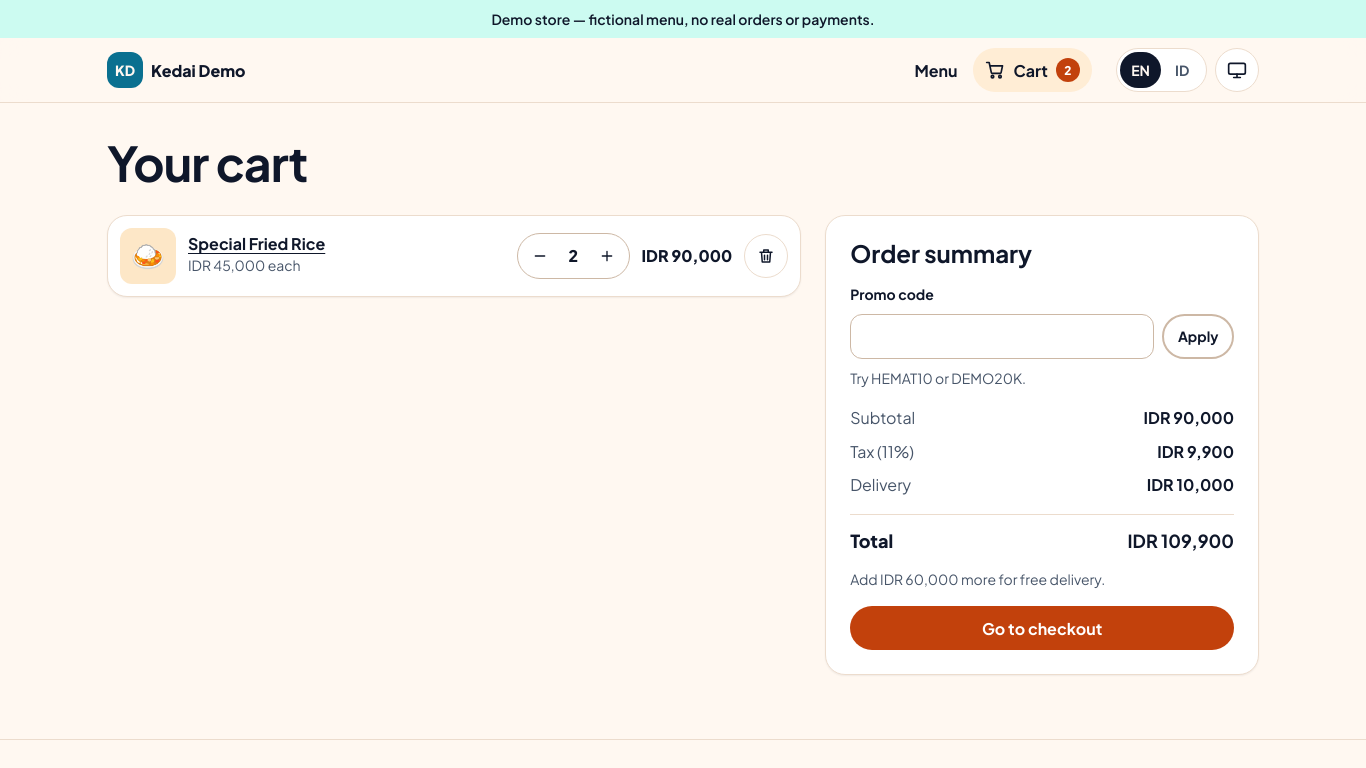
cart › applies a valid promo code and rejects an unknown one
Type "nope" into the field labelled "Promo code" at (1002, 336), box top-left (850, 314), bottom-right (1154, 359)
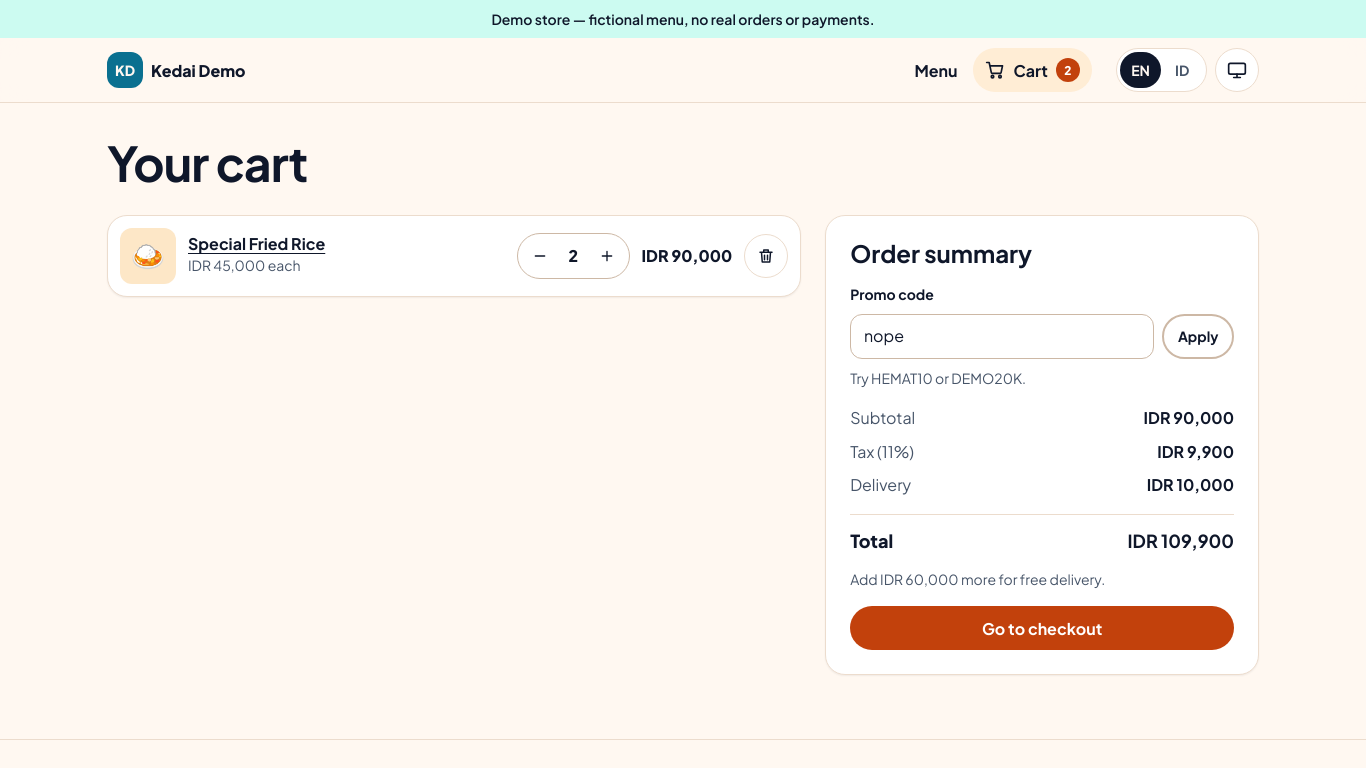
Click the button "Apply" at (1198, 336), box top-left (1162, 314), bottom-right (1234, 359)
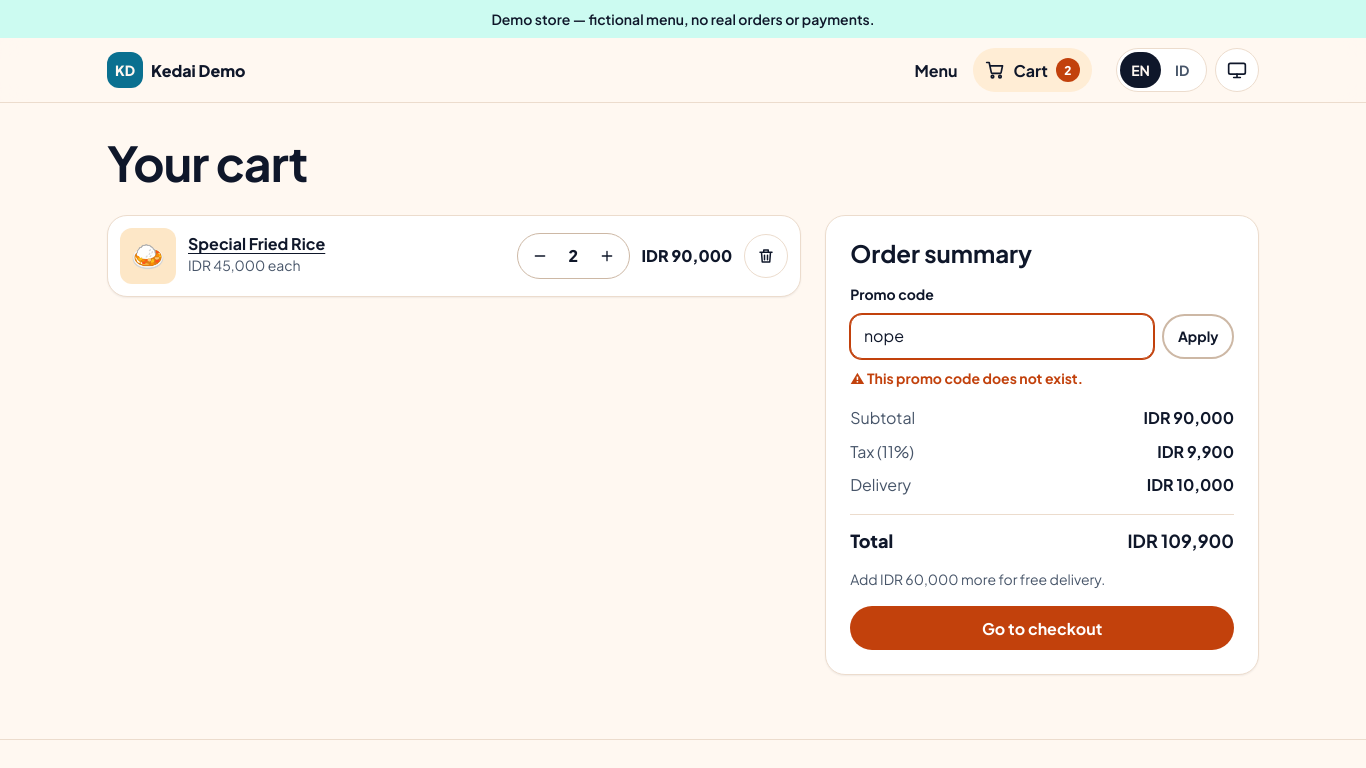
Expected: the text "This promo code does not exist." is shown, top-left (867, 369), bottom-right (1083, 387)
Replace the text in the field labelled "Promo code" with "hemat10" at (1002, 336), box top-left (850, 314), bottom-right (1154, 359)
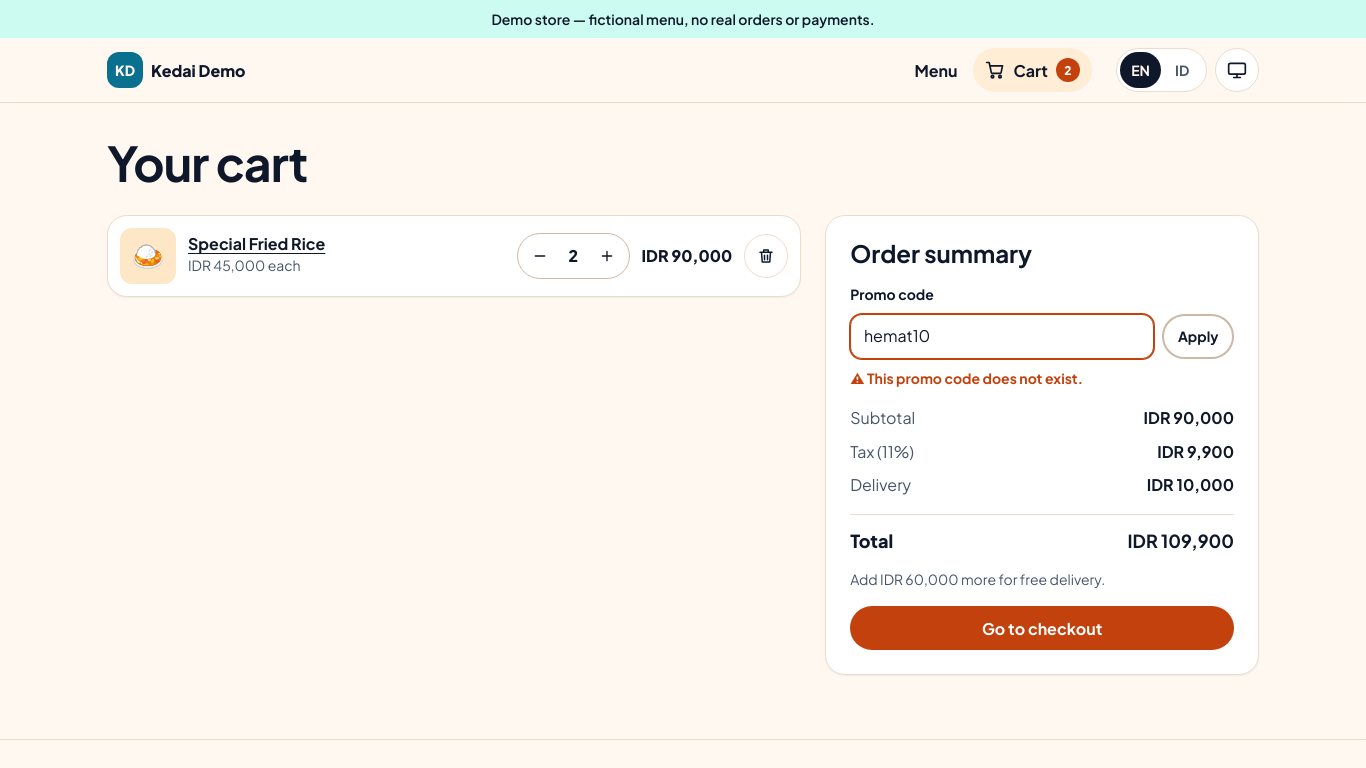
Click the button "Apply" at (1198, 336), box top-left (1162, 314), bottom-right (1234, 359)
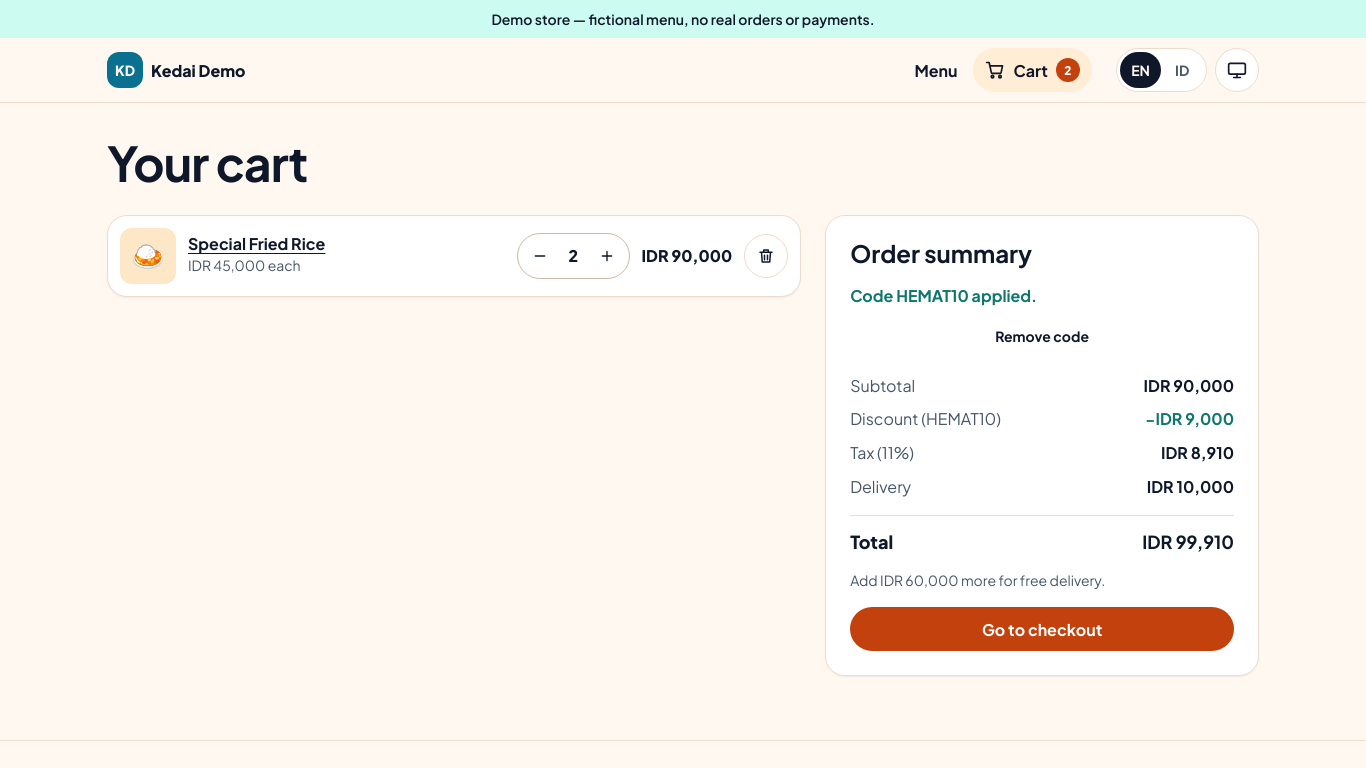
Expected: the text "Code HEMAT10 applied." is shown, top-left (850, 285), bottom-right (1037, 306)
Expected: the text "Discount (HEMAT10)" is shown, top-left (850, 406), bottom-right (1001, 432)
